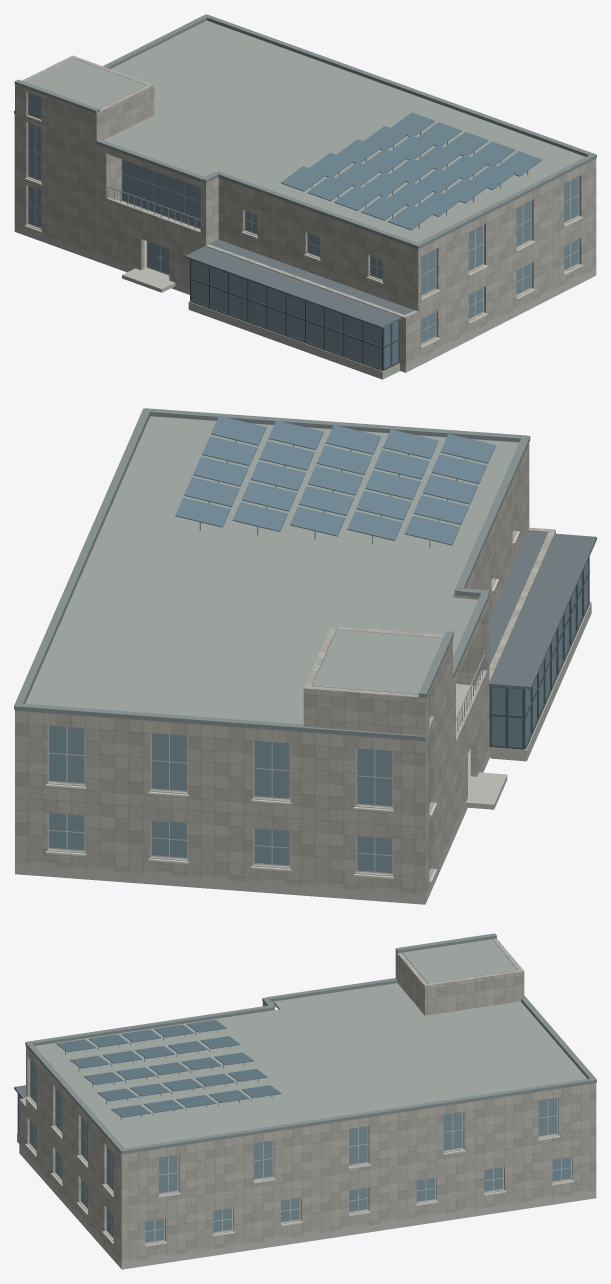
3 renders of one model, top to bottom at view 1: azimuth 30°, elevation 25°; view 2: azimuth 150°, elevation 25°; view 3: azimuth 270°, elevation 25°, orthographic. The views are drawn at different scales.
Parts seen in each view (by area): view 1: neulhaenuri__stone, neulhaenuri__roof, neulhaenuri__solar, neulhaenuri__glass, neulhaenuri__cap, neulhaenuri__gallery-glass, neulhaenuri__gallery-roof, neulhaenuri__threshold-entry, neulhaenuri__gallery-frame, neulhaenuri__frame, neulhaenuri__slab, neulhaenuri__white (+2 smaller); view 2: neulhaenuri__roof, neulhaenuri__stone, neulhaenuri__solar, neulhaenuri__glass, neulhaenuri__cap, neulhaenuri__gallery-roof, neulhaenuri__threshold-entry, neulhaenuri__frame, neulhaenuri__gallery-frame, neulhaenuri__gallery-glass, neulhaenuri__slab, neulhaenuri__gallery-side-glass (+1 smaller); view 3: neulhaenuri__stone, neulhaenuri__roof, neulhaenuri__solar, neulhaenuri__glass, neulhaenuri__cap, neulhaenuri__threshold-entry, neulhaenuri__frame, neulhaenuri__white.
Boxes of the visible parts, bbox=[...] form: neulhaenuri__stone: bbox=[14, 20, 596, 365]; neulhaenuri__roof: bbox=[26, 20, 585, 242]; neulhaenuri__solar: bbox=[281, 112, 542, 230]; neulhaenuri__glass: bbox=[28, 93, 578, 343]; neulhaenuri__cap: bbox=[14, 14, 596, 248]; neulhaenuri__gallery-glass: bbox=[191, 260, 381, 368]; neulhaenuri__gallery-roof: bbox=[185, 239, 414, 328]; neulhaenuri__threshold-entry: bbox=[14, 225, 596, 372]; neulhaenuri__gallery-frame: bbox=[190, 260, 399, 370]; neulhaenuri__frame: bbox=[28, 93, 579, 344]; neulhaenuri__slab: bbox=[121, 201, 399, 379]; neulhaenuri__white: bbox=[24, 178, 583, 348]; neulhaenuri__roof: bbox=[25, 416, 519, 724]; neulhaenuri__stone: bbox=[15, 416, 555, 894]; neulhaenuri__solar: bbox=[175, 416, 495, 545]; neulhaenuri__glass: bbox=[49, 511, 513, 872]; neulhaenuri__cap: bbox=[14, 408, 530, 740]; neulhaenuri__gallery-roof: bbox=[459, 531, 596, 689]; neulhaenuri__threshold-entry: bbox=[15, 683, 507, 904]; neulhaenuri__frame: bbox=[48, 510, 513, 874]; neulhaenuri__gallery-frame: bbox=[489, 557, 589, 749]; neulhaenuri__gallery-glass: bbox=[525, 560, 588, 744]; neulhaenuri__slab: bbox=[454, 595, 591, 761]; neulhaenuri__gallery-side-glass: bbox=[491, 687, 522, 747]; neulhaenuri__stone: bbox=[19, 938, 596, 1262]; neulhaenuri__roof: bbox=[35, 939, 586, 1148]; neulhaenuri__solar: bbox=[56, 1019, 281, 1117]; neulhaenuri__glass: bbox=[30, 1059, 570, 1242]; neulhaenuri__cap: bbox=[25, 933, 596, 1153]; neulhaenuri__threshold-entry: bbox=[19, 1146, 596, 1269]; neulhaenuri__frame: bbox=[29, 1064, 571, 1243]; neulhaenuri__white: bbox=[25, 1097, 573, 1246].
Size of the model in its own units: 34.73 by 12.74 by 45.42.
Materials: 14 (1 with a texture image).
